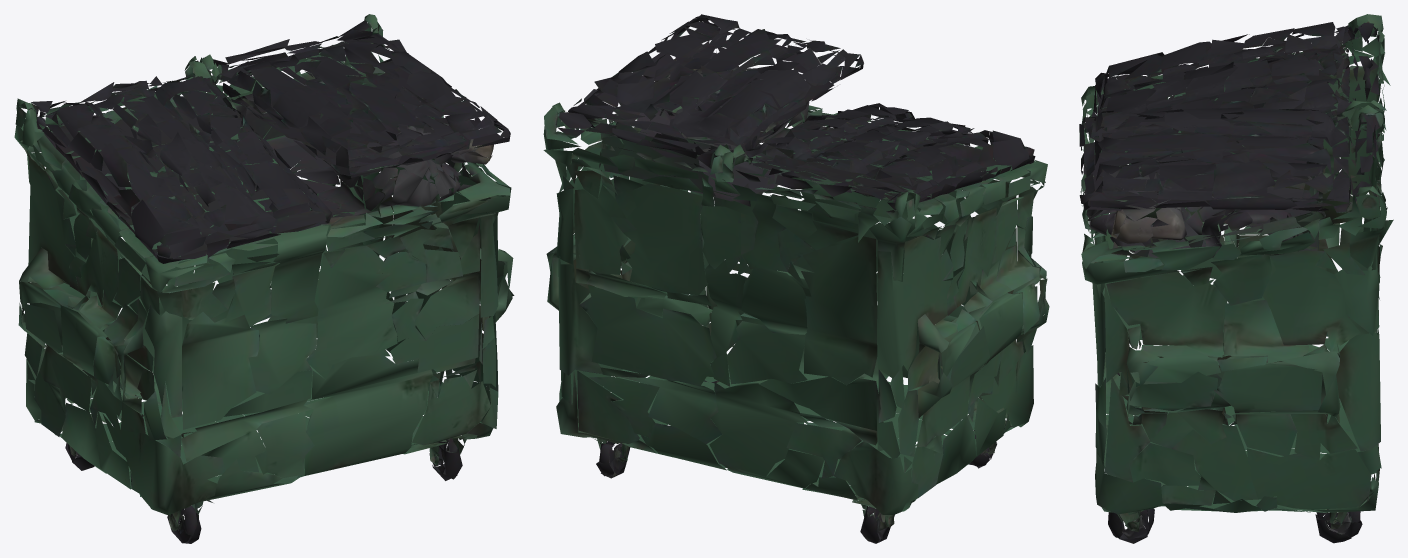
Rendered from dumpster.glb.
3 renders of one model, left to right at view 1: azimuth 30°, elevation 25°; view 2: azimuth 150°, elevation 25°; view 3: azimuth 270°, elevation 25°, orthographic. The views are drawn at different scales.
Visible parts, largest first — view 1: Mesh_0; view 2: Mesh_0; view 3: Mesh_0.
Boxes of the visible parts, x1,y1,x2,y2 form: Mesh_0: (14, 14, 514, 543); Mesh_0: (543, 14, 1049, 543); Mesh_0: (1079, 14, 1393, 543).
Bounding box in the file's own units: 1.32 × 1.2 × 0.8907.
1 material, 1 textured.
